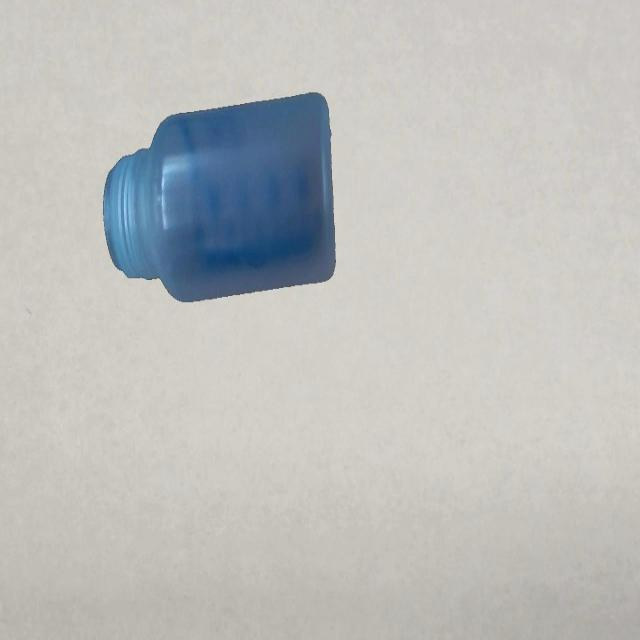bottle: (102, 88, 336, 304)
